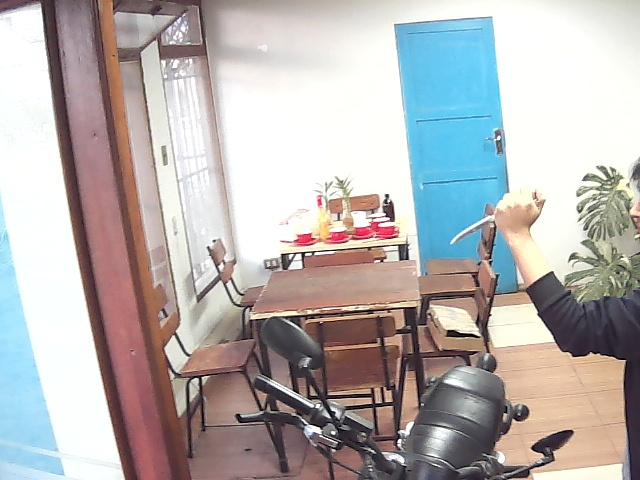cuchillo: (447, 175, 551, 251)
